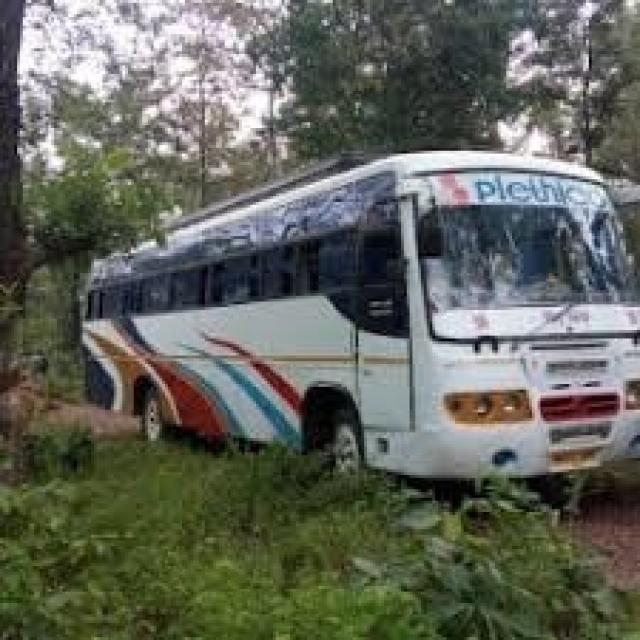bus: (80, 155, 640, 478)
